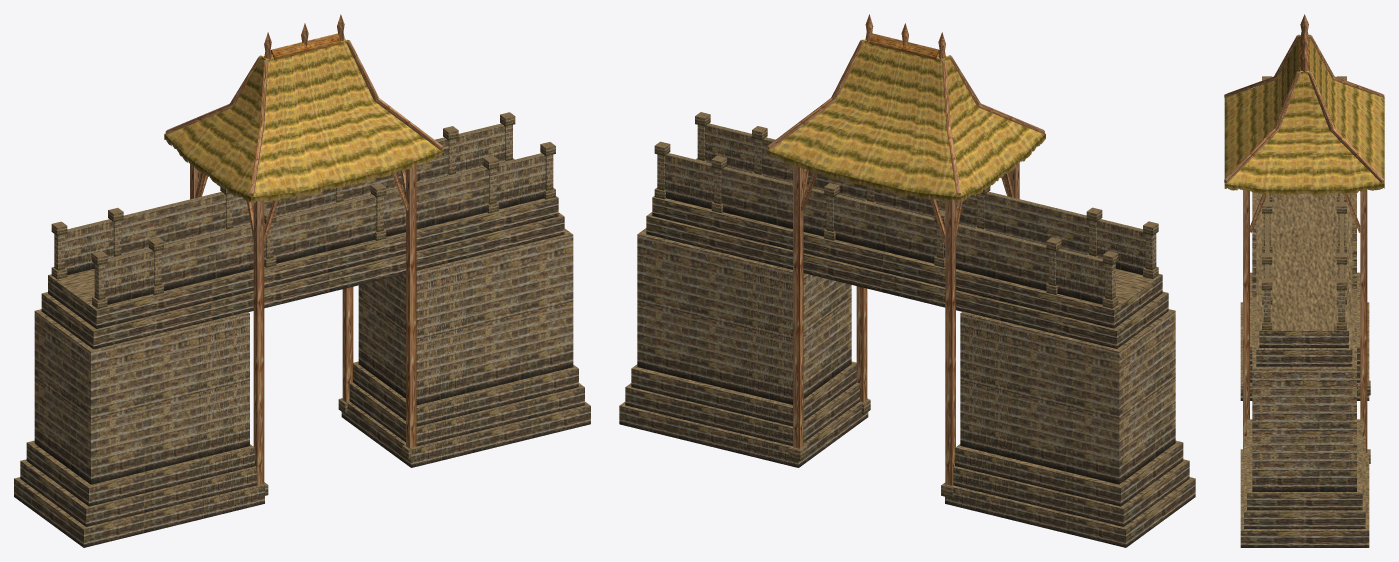
File: wall_gate.dae
3 views of the same model, side by side, from view 1: azimuth 30°, elevation 25°; view 2: azimuth 150°, elevation 25°; view 3: azimuth 270°, elevation 25° (orthographic). The views are drawn at different scales.
Visible parts, largest first — view 1: wall_gate; view 2: wall_gate; view 3: wall_gate.
Part boxes in pixels (x1=…): wall_gate: x1=14, y1=14, x2=590, y2=547; wall_gate: x1=619, y1=14, x2=1195, y2=547; wall_gate: x1=1224, y1=14, x2=1384, y2=547.
Bounding box in the file's own units: 33.27 × 9.86 × 27.43.
